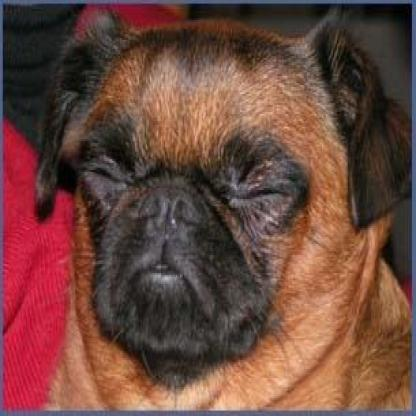Brabancon_griffon: (27, 11, 414, 412)
